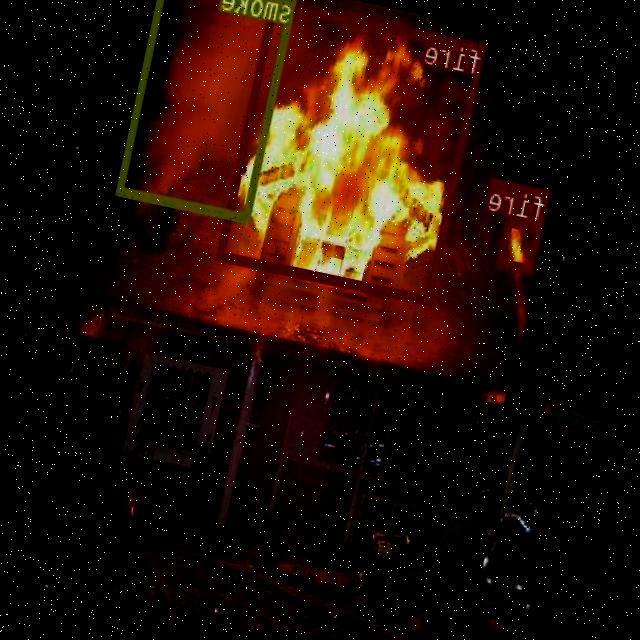fire: (218, 0, 487, 304), (498, 216, 544, 272)
smoke: (117, 0, 299, 221)
